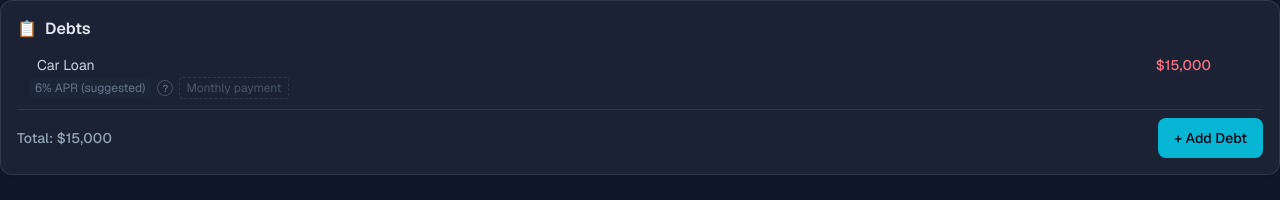
Test: DebtEntry component › shows click-to-edit input when amount is clicked
Click the button named "Edit amount for Car Loan". click: click(1163, 65)
box: [1107,51,1219,79]
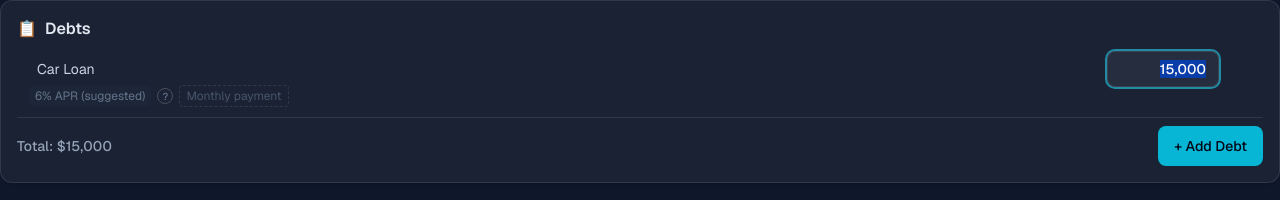
expect the field named "Edit amount for Car Loan" is shown: met, box [1107,51,1219,87]
